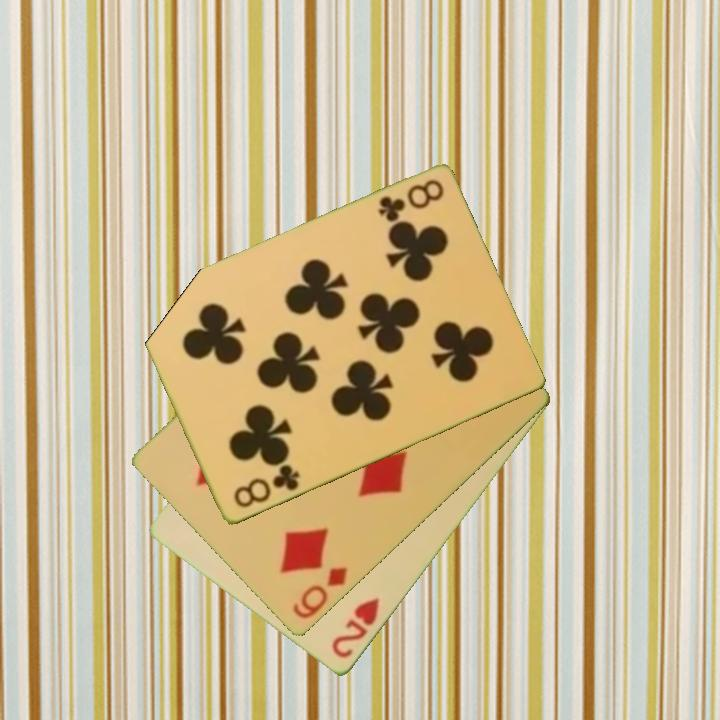2h: (328, 594, 383, 662)
6d: (288, 564, 351, 623)
8c: (229, 461, 303, 512), (374, 176, 447, 226)
